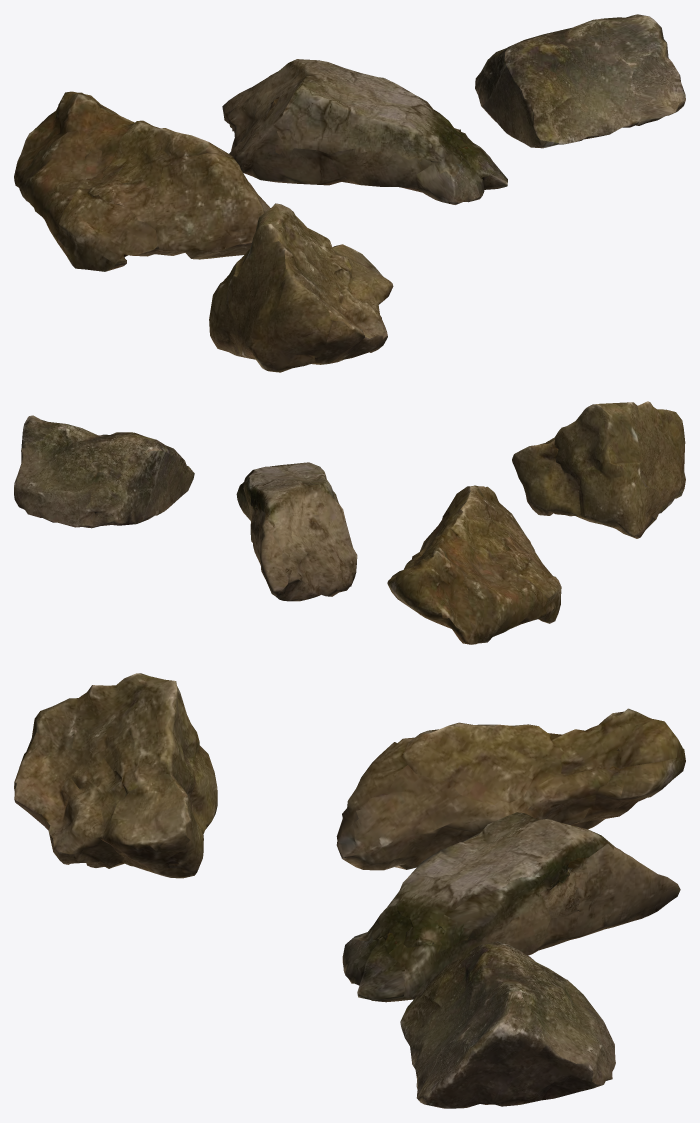
The model's file is rock_mossy.glb.
3 views of the same model, one above another, from view 1: azimuth 30°, elevation 25°; view 2: azimuth 150°, elevation 25°; view 3: azimuth 270°, elevation 25° (orthographic). The views are drawn at different scales.
Visible parts, largest first — view 1: rock_moss_set_01_rock01, rock_moss_set_01_rock02, rock_moss_set_01_rock04, rock_moss_set_01_rock03; view 2: rock_moss_set_01_rock04, rock_moss_set_01_rock01, rock_moss_set_01_rock03, rock_moss_set_01_rock02; view 3: rock_moss_set_01_rock01, rock_moss_set_01_rock02, rock_moss_set_01_rock04, rock_moss_set_01_rock03.
Boxes of the visible parts, x1=… form: rock_moss_set_01_rock01: x1=14, y1=91, x2=270, y2=271; rock_moss_set_01_rock02: x1=222, y1=59, x2=507, y2=204; rock_moss_set_01_rock04: x1=209, y1=203, x2=393, y2=372; rock_moss_set_01_rock03: x1=475, y1=14, x2=685, y2=148; rock_moss_set_01_rock04: x1=512, y1=401, x2=685, y2=538; rock_moss_set_01_rock01: x1=387, y1=485, x2=561, y2=644; rock_moss_set_01_rock03: x1=14, y1=415, x2=194, y2=528; rock_moss_set_01_rock02: x1=236, y1=462, x2=357, y2=601; rock_moss_set_01_rock01: x1=336, y1=708, x2=685, y2=870; rock_moss_set_01_rock02: x1=342, y1=812, x2=680, y2=1002; rock_moss_set_01_rock04: x1=14, y1=673, x2=217, y2=878; rock_moss_set_01_rock03: x1=400, y1=941, x2=615, y2=1108.
Size of the model in its own units: 8 by 1.76 by 6.47.
Materials: 1 (1 with a texture image).
